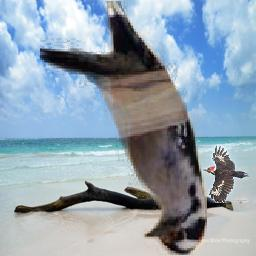Woodpecker: (41, 1, 208, 255), (203, 145, 250, 204)
